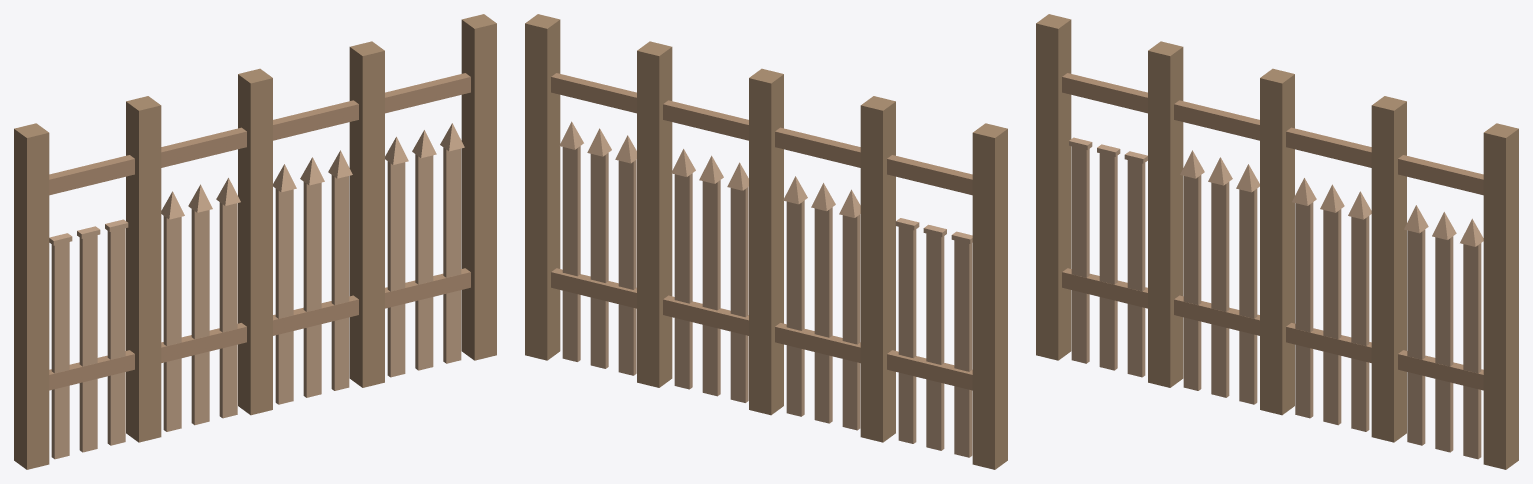
File: fence.glb
3 views of the same model, side by side, from view 1: azimuth 30°, elevation 25°; view 2: azimuth 150°, elevation 25°; view 3: azimuth 330°, elevation 25° (orthographic).
Parts seen in each view (by area): view 1: shaft (×12), post_0, post_1, post_3, post_4, post_2, rail_top, rail_bot; view 2: shaft (×12), post_0, post_1, post_4, post_3, post_2, rail_top, rail_bot; view 3: shaft (×12), post_4, post_3, post_1, post_0, post_2, rail_top, rail_bot.
Boxes of the visible parts, left/top/right/bottom form: shaft (×12): left=51, top=147, right=461, bottom=459; post_0: left=14, top=123, right=49, bottom=469; post_1: left=126, top=96, right=161, bottom=442; post_3: left=349, top=41, right=384, bottom=387; post_4: left=461, top=14, right=496, bottom=360; post_2: left=238, top=68, right=272, bottom=415; rail_top: left=49, top=73, right=470, bottom=195; rail_bot: left=49, top=268, right=470, bottom=390; shaft (×12): left=562, top=146, right=972, bottom=457; post_0: left=972, top=123, right=1007, bottom=469; post_1: left=860, top=96, right=895, bottom=442; post_4: left=525, top=14, right=560, bottom=360; post_3: left=637, top=41, right=672, bottom=387; post_2: left=749, top=68, right=783, bottom=415; rail_top: left=551, top=73, right=972, bottom=195; rail_bot: left=551, top=268, right=972, bottom=390; shaft (×12): left=1071, top=146, right=1481, bottom=459; post_4: left=1483, top=123, right=1518, bottom=469; post_3: left=1371, top=96, right=1406, bottom=442; post_1: left=1148, top=41, right=1183, bottom=387; post_0: left=1036, top=14, right=1071, bottom=360; post_2: left=1260, top=68, right=1294, bottom=415; rail_top: left=1062, top=73, right=1483, bottom=195; rail_bot: left=1062, top=268, right=1483, bottom=390.
Bounding box in the file's own units: 1.26 × 0.85 × 0.06.
